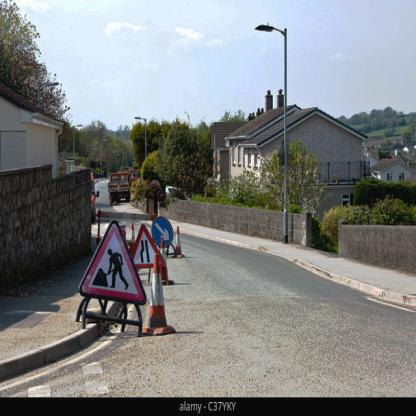Keep right: (152, 212, 174, 250)
